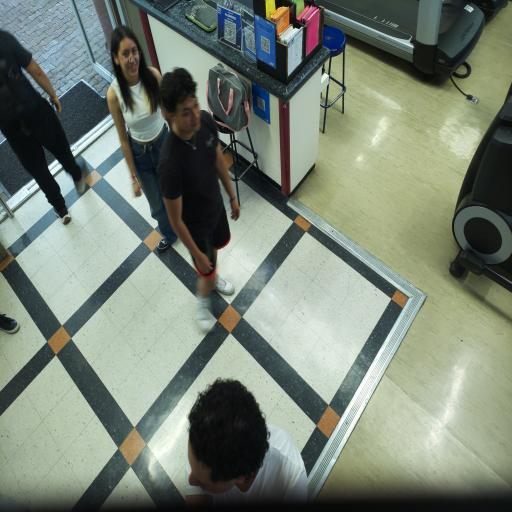person: (158, 69, 239, 330), (0, 31, 87, 223), (107, 26, 177, 252), (186, 379, 307, 505), (0, 314, 19, 333)
